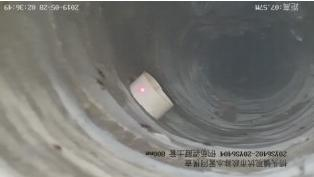ZGAJ: (131, 72, 173, 119)
